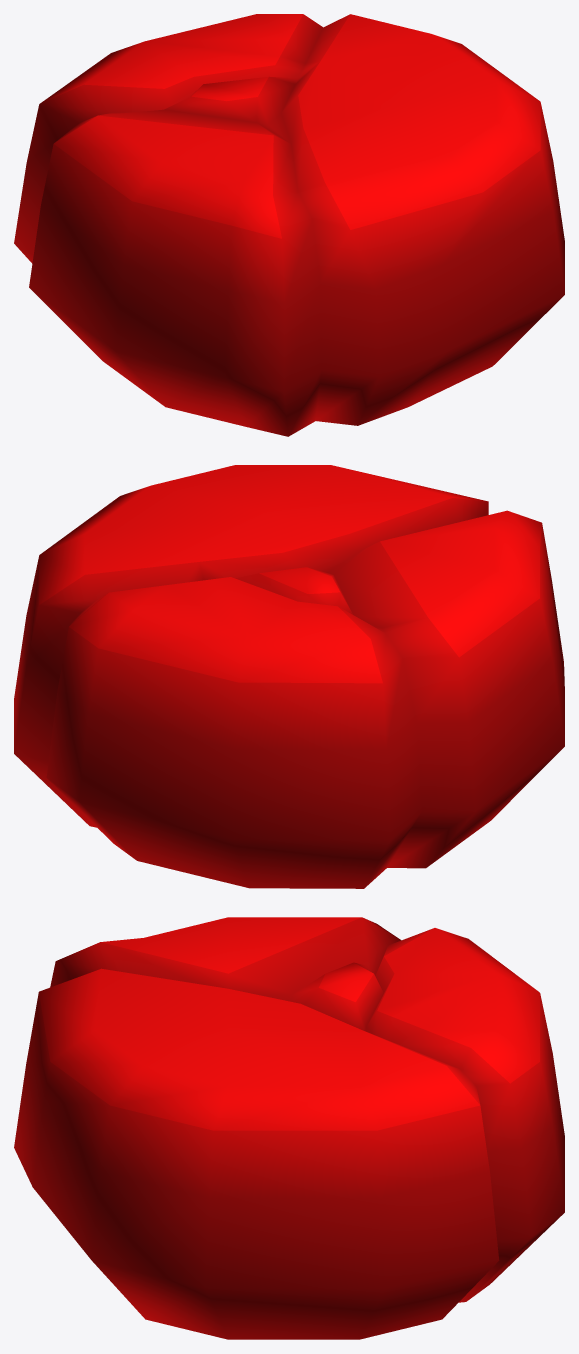
The model's file is geology-landforms-icefloe_v2.fbx.
3 renders of one model, top to bottom at view 1: azimuth 30°, elevation 25°; view 2: azimuth 150°, elevation 25°; view 3: azimuth 270°, elevation 25°, orthographic. The views are drawn at different scales.
Parts seen in each view (by area): view 1: IceFloe_v2; view 2: IceFloe_v2; view 3: IceFloe_v2.
Part boxes in pixels (box(x1,y1,x2,y2)): IceFloe_v2: box(14, 14, 564, 436); IceFloe_v2: box(14, 465, 564, 888); IceFloe_v2: box(14, 917, 564, 1339).
Bounding box in the file's own units: 2.33 × 1.22 × 2.38.
